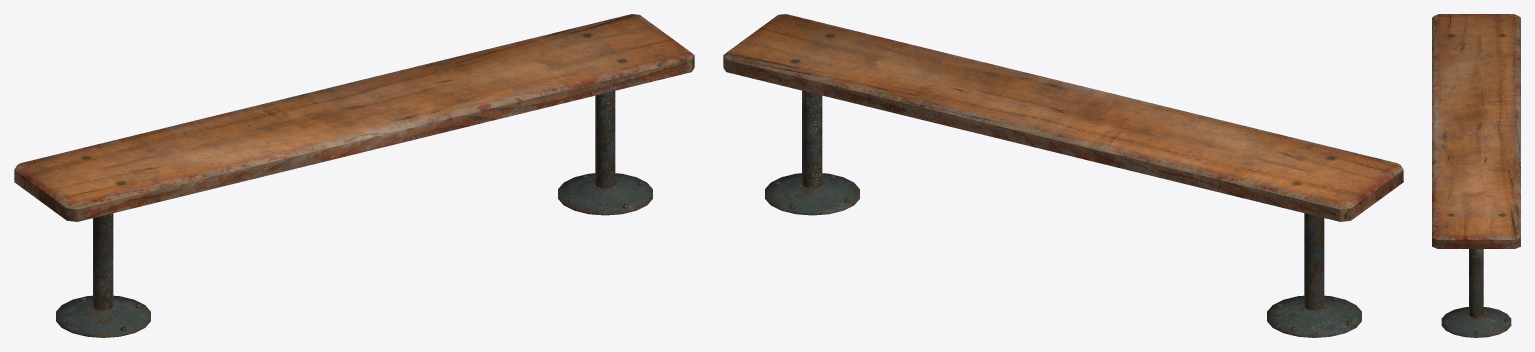
Rendered from Bench.FBX.
3 views of the same model, side by side, from view 1: azimuth 30°, elevation 25°; view 2: azimuth 150°, elevation 25°; view 3: azimuth 270°, elevation 25° (orthographic). The views are drawn at different scales.
Parts seen in each view (by area): view 1: Bench_LOD0; view 2: Bench_LOD0; view 3: Bench_LOD0.
Boxes of the visible parts, x1,y1,x2,y2 form: Bench_LOD0: [14, 14, 694, 337]; Bench_LOD0: [723, 14, 1403, 337]; Bench_LOD0: [1432, 14, 1520, 337].
Size of what is drawn, in the model's own units: 199 by 44.52 by 33.23.
